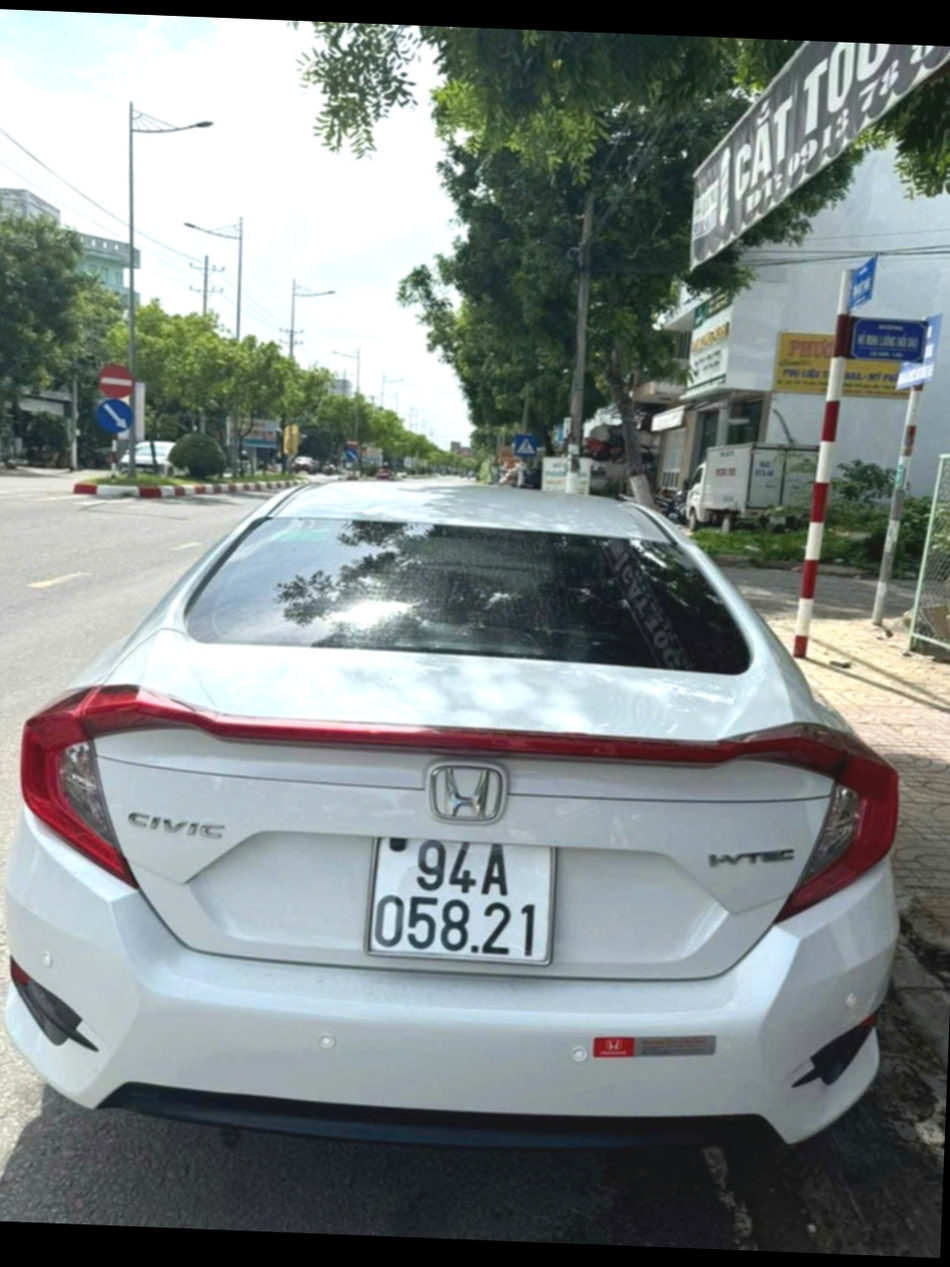Bien-so: (412, 847, 604, 996)
